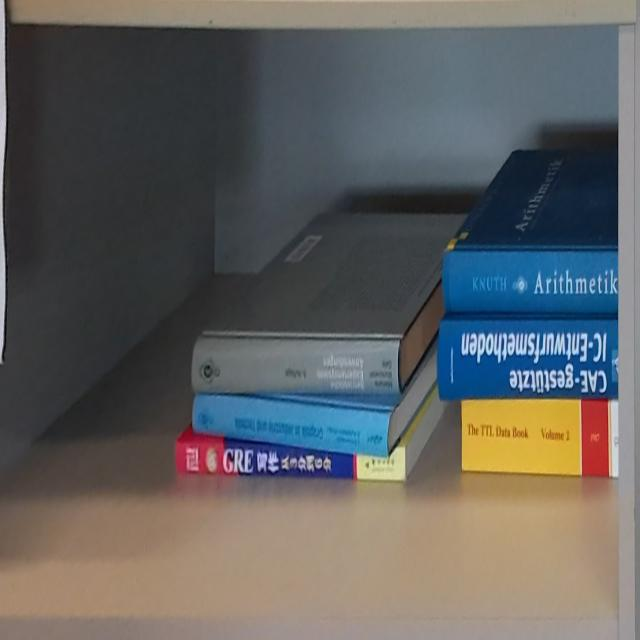Book Spine: (437, 322, 618, 404), (191, 394, 394, 459), (190, 335, 400, 395), (461, 402, 619, 478), (442, 249, 619, 315), (176, 441, 406, 481)
